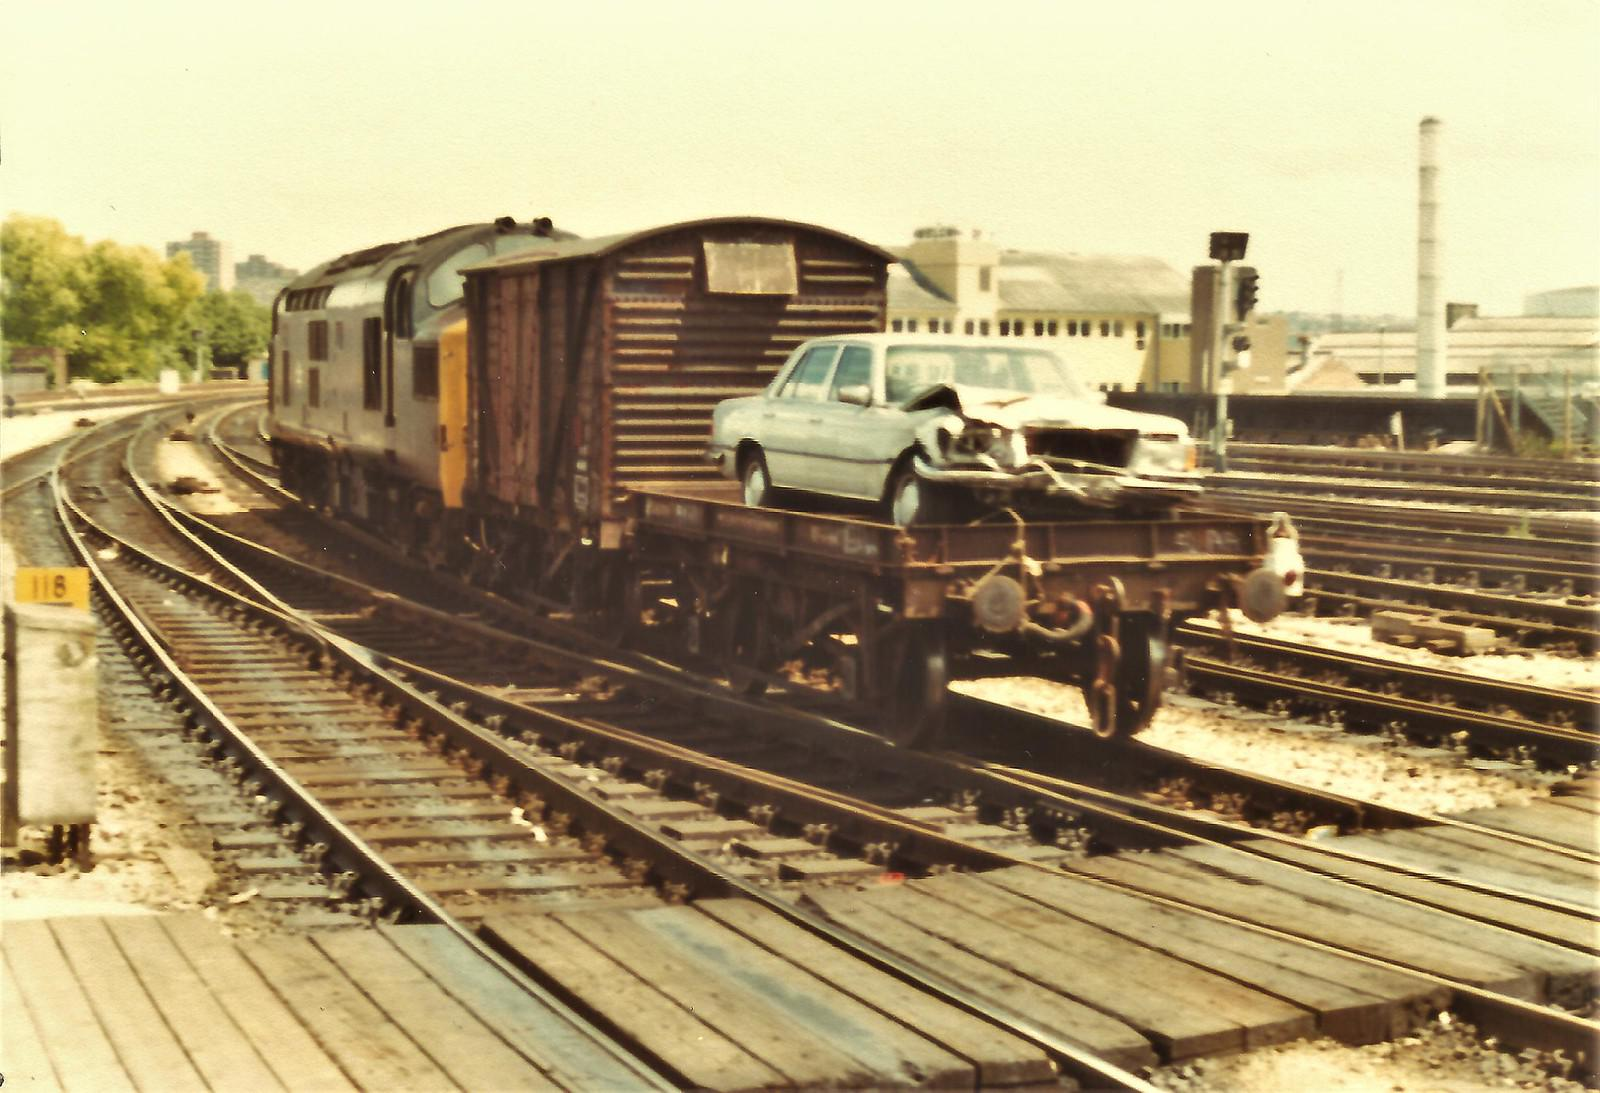bonnet-dent: (905, 370, 1164, 436)
front-bumper-dent: (945, 419, 1181, 520)
